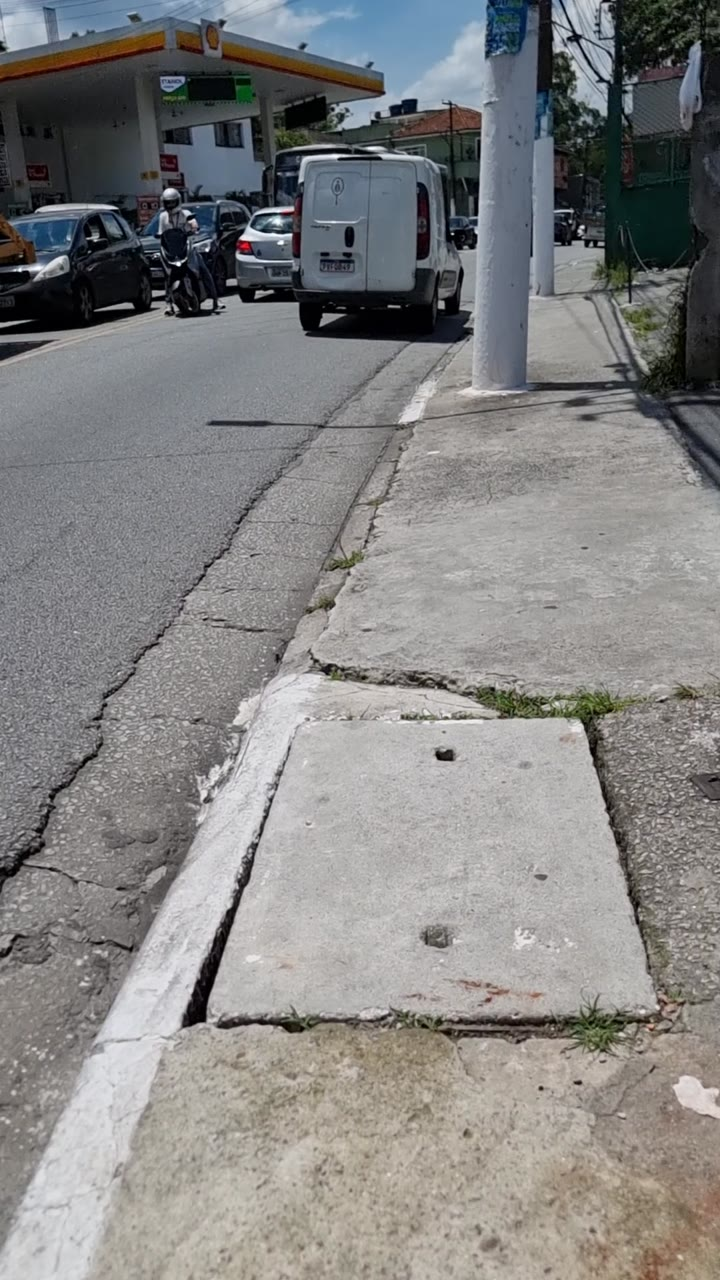desnivel: (194, 666, 648, 1011)
obstaculo: (468, 0, 547, 384)
